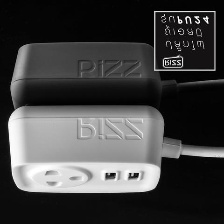three_eye_plug: (4, 101, 168, 202)
